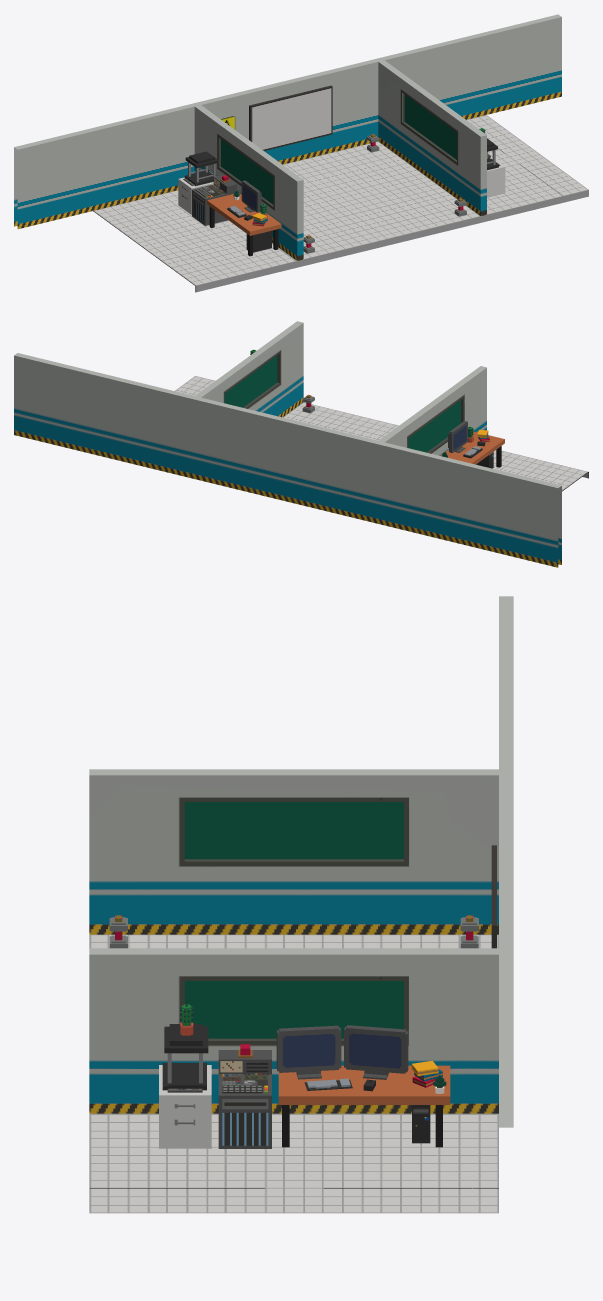
The model's file is scenegame_v03.fbx.
3 renders of one model, top to bottom at view 1: azimuth 30°, elevation 25°; view 2: azimuth 150°, elevation 25°; view 3: azimuth 270°, elevation 25°, orthographic. The views are drawn at different scales.
Parts seen in each view (by area): view 1: scenegame_mesh_, window2_, window1_; view 2: scenegame_mesh_, window2_, window1_; view 3: scenegame_mesh_, window1_, window2_.
Part boxes in pixels (box(x1,y1,x2,y2)): scenegame_mesh_: box(14, 14, 588, 292); window2_: box(404, 95, 456, 159); window1_: box(221, 139, 273, 204); scenegame_mesh_: box(14, 321, 588, 567); window2_: box(225, 355, 277, 407); window1_: box(408, 400, 460, 452); scenegame_mesh_: box(89, 596, 513, 1213); window1_: box(184, 802, 403, 859); window2_: box(184, 981, 403, 1038).
Size of the model in its own units: 6876 by 2320 by 1041.
